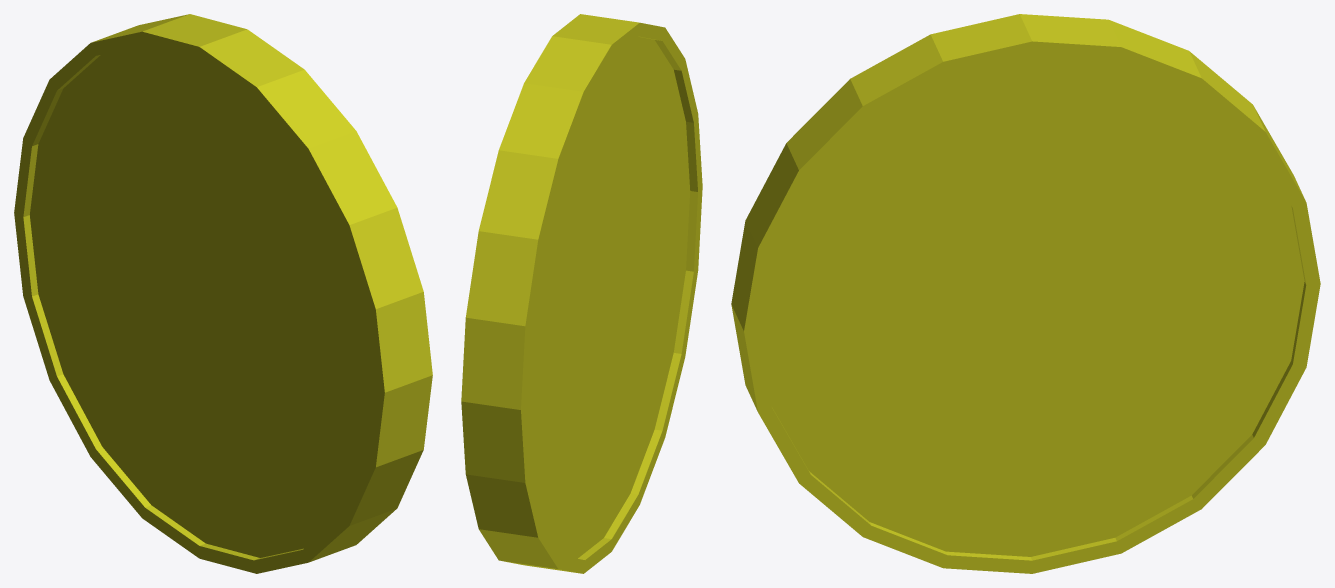
Rendered from Low Poly Coin_000027.obj.
3 renders of one model, left to right at view 1: azimuth 30°, elevation 25°; view 2: azimuth 150°, elevation 25°; view 3: azimuth 270°, elevation 25°, orthographic. The views are drawn at different scales.
Visible parts, largest first — view 1: Cylinder; view 2: Cylinder; view 3: Cylinder.
Boxes of the visible parts, bbox=[...] form: Cylinder: bbox=[14, 14, 432, 573]; Cylinder: bbox=[461, 14, 702, 573]; Cylinder: bbox=[731, 14, 1320, 573].
Size of the model in its own units: 0.6042 by 2 by 2.01.
